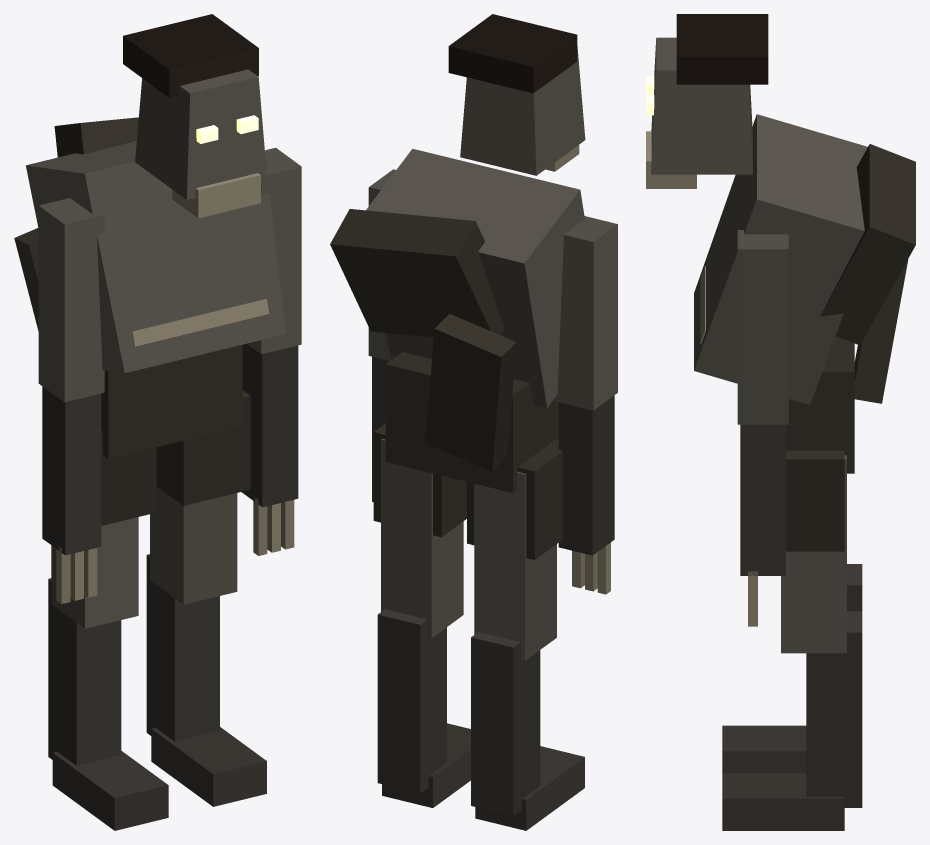
Rendered from ghoul.glb.
The picture shows the model from 3 angles, left to right: view 1: azimuth 30°, elevation 25°; view 2: azimuth 150°, elevation 25°; view 3: azimuth 270°, elevation 25°; orthographic projection. The views are drawn at different scales.
Visible parts, largest first — view 1: Torso, Leg_L, Leg_R, Arm_R, Head, Arm_L; view 2: Torso, Leg_R, Leg_L, Arm_R, Head, Arm_L; view 3: Torso, Leg_L, Head, Arm_L, Leg_R.
Part boxes in pixels (left/top/right/bottom): Torso: left=14, top=117, right=285, bottom=458; Leg_L: left=146, top=390, right=266, bottom=806; Leg_R: left=48, top=431, right=168, bottom=830; Arm_R: left=38, top=198, right=104, bottom=603; Head: left=123, top=14, right=267, bottom=218; Arm_L: left=241, top=147, right=301, bottom=555; Torso: left=330, top=148, right=584, bottom=492; Leg_R: left=467, top=438, right=584, bottom=830; Leg_L: left=373, top=423, right=470, bottom=807; Arm_R: left=555, top=216, right=617, bottom=594; Head: left=448, top=14, right=585, bottom=175; Arm_L: left=368, top=169, right=395, bottom=501; Torso: left=694, top=114, right=915, bottom=473; Leg_L: left=722, top=450, right=862, bottom=830; Head: left=646, top=14, right=768, bottom=188; Arm_L: left=737, top=230, right=788, bottom=626; Leg_R: left=722, top=564, right=862, bottom=772.
Bounding box in the file's own units: 0.53 × 1.64 × 0.5303.
